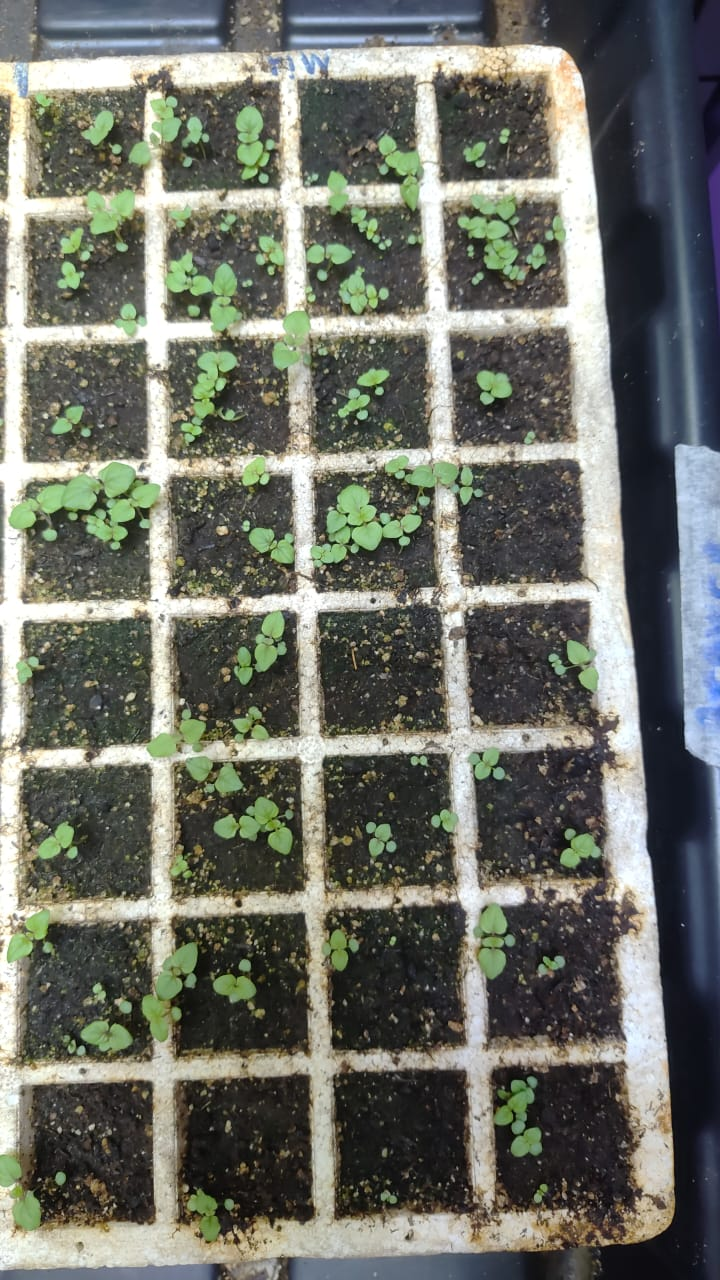Folha: (307, 481, 424, 569), (163, 249, 243, 333), (136, 940, 199, 1043), (455, 191, 524, 282), (29, 461, 140, 516), (178, 348, 238, 442), (383, 450, 482, 506), (212, 795, 295, 856), (492, 1074, 543, 1158), (234, 609, 288, 686), (376, 133, 424, 212), (472, 902, 517, 981), (0, 1152, 43, 1232), (189, 348, 239, 416), (233, 104, 276, 183), (145, 707, 208, 760), (185, 1187, 240, 1243), (6, 482, 64, 535), (546, 638, 599, 693), (5, 908, 54, 963), (270, 309, 312, 371), (84, 186, 136, 235), (211, 957, 258, 1004), (247, 526, 293, 564), (320, 928, 356, 968), (477, 369, 513, 408), (163, 251, 196, 291), (80, 109, 115, 146), (232, 706, 269, 740), (467, 747, 505, 780), (0, 1149, 24, 1199), (337, 483, 371, 515), (326, 169, 349, 215), (49, 822, 75, 861), (240, 453, 270, 486), (184, 755, 213, 789), (356, 367, 390, 395), (340, 389, 370, 420), (571, 831, 602, 861), (268, 532, 295, 564), (179, 716, 207, 746), (403, 460, 434, 487), (24, 910, 51, 941), (212, 261, 238, 293), (240, 455, 266, 486), (215, 763, 241, 794), (113, 302, 137, 335), (59, 224, 85, 254), (320, 241, 352, 265), (132, 481, 160, 508), (353, 524, 382, 550), (228, 975, 255, 1002), (326, 169, 349, 199), (338, 937, 360, 968), (79, 1020, 107, 1044), (56, 264, 81, 290), (462, 140, 486, 167), (107, 1023, 131, 1050), (36, 835, 60, 861), (558, 846, 585, 869), (59, 260, 80, 289), (157, 118, 182, 142), (488, 375, 513, 399), (367, 838, 397, 858), (128, 140, 151, 166), (526, 242, 548, 269), (565, 640, 589, 664), (350, 206, 371, 232), (169, 205, 192, 228), (462, 140, 486, 162), (365, 283, 389, 305), (214, 974, 235, 999), (365, 822, 392, 841), (191, 273, 214, 295), (347, 387, 369, 410), (169, 856, 192, 878), (186, 115, 203, 143), (551, 213, 566, 244), (475, 369, 496, 391), (326, 928, 347, 950), (513, 1087, 534, 1109), (492, 1104, 513, 1126), (459, 486, 483, 505), (467, 749, 486, 773), (439, 808, 458, 832), (15, 659, 33, 684), (329, 949, 349, 971), (349, 292, 368, 315), (113, 317, 137, 335), (400, 513, 422, 532), (487, 220, 510, 238), (305, 243, 325, 263), (482, 746, 502, 766), (241, 464, 259, 486), (548, 653, 566, 675), (471, 193, 490, 213), (64, 404, 84, 423), (50, 416, 71, 434), (353, 391, 370, 413), (356, 217, 379, 233), (526, 252, 547, 269), (506, 263, 526, 280), (258, 231, 274, 251), (563, 823, 579, 843), (459, 465, 474, 486), (184, 425, 202, 442), (232, 717, 251, 733), (547, 954, 566, 970), (533, 1183, 548, 1203), (269, 247, 285, 265), (459, 486, 474, 505), (337, 292, 358, 305), (185, 303, 202, 319), (366, 284, 382, 300), (381, 838, 397, 854), (64, 845, 80, 861), (542, 955, 558, 971), (511, 1078, 528, 1093), (551, 213, 564, 232), (221, 212, 236, 228), (364, 821, 379, 837), (34, 92, 51, 106), (366, 226, 380, 243), (38, 938, 52, 955), (247, 705, 262, 720), (495, 128, 510, 142), (42, 527, 57, 541), (547, 652, 562, 666), (191, 132, 209, 143), (118, 1000, 132, 1014), (24, 655, 39, 668), (532, 1188, 545, 1203), (471, 271, 484, 285), (493, 766, 506, 780), (310, 544, 322, 559), (292, 522, 296, 566), (115, 239, 128, 252), (523, 431, 536, 444), (54, 1171, 66, 1185), (508, 264, 518, 280), (165, 95, 178, 107), (526, 1075, 538, 1088), (417, 495, 431, 506), (495, 1088, 509, 1099), (430, 813, 440, 828), (137, 314, 146, 329), (378, 239, 390, 250), (337, 406, 348, 418), (224, 408, 235, 420), (95, 507, 106, 519), (398, 535, 410, 546), (546, 959, 558, 970), (379, 1190, 391, 1201), (357, 219, 367, 232), (374, 385, 387, 395), (111, 143, 122, 154), (79, 250, 90, 261), (180, 708, 191, 719), (537, 963, 548, 974), (255, 253, 265, 265), (139, 518, 151, 528), (182, 156, 192, 167), (368, 298, 379, 308), (394, 470, 406, 479), (365, 230, 375, 240), (191, 426, 201, 436), (80, 427, 90, 437), (409, 755, 419, 765), (544, 229, 553, 240), (242, 519, 250, 531), (407, 234, 416, 244), (110, 541, 120, 550), (234, 733, 244, 742), (92, 983, 101, 993), (67, 1043, 76, 1053), (76, 1045, 85, 1055), (419, 754, 427, 765), (219, 222, 228, 231), (307, 293, 316, 302), (176, 220, 186, 228), (266, 265, 274, 275), (190, 416, 198, 426), (498, 135, 507, 143), (476, 271, 484, 280), (304, 286, 312, 295), (68, 512, 77, 520), (388, 1195, 397, 1203), (525, 431, 535, 438), (417, 233, 423, 244), (384, 238, 392, 246), (98, 991, 106, 999), (174, 854, 183, 861), (37, 107, 44, 115), (311, 173, 318, 181), (87, 243, 94, 251), (526, 254, 531, 264), (409, 468, 415, 475), (0, 417, 3, 426)
Germinacao: (145, 606, 292, 850), (45, 95, 236, 272), (239, 447, 505, 570), (305, 134, 427, 372), (164, 228, 307, 418), (6, 400, 162, 547), (62, 940, 259, 1056), (265, 261, 391, 420), (457, 123, 567, 285), (372, 746, 507, 836), (2, 821, 81, 964), (474, 902, 566, 980), (470, 368, 532, 469), (0, 1154, 69, 1228), (489, 1076, 543, 1157), (545, 637, 600, 692), (185, 1192, 226, 1241), (558, 826, 602, 870), (320, 928, 360, 972), (365, 821, 397, 857), (113, 303, 146, 335), (15, 655, 40, 684), (179, 416, 203, 443), (169, 854, 193, 879), (532, 1183, 549, 1203), (379, 1189, 398, 1204), (388, 935, 397, 946)
